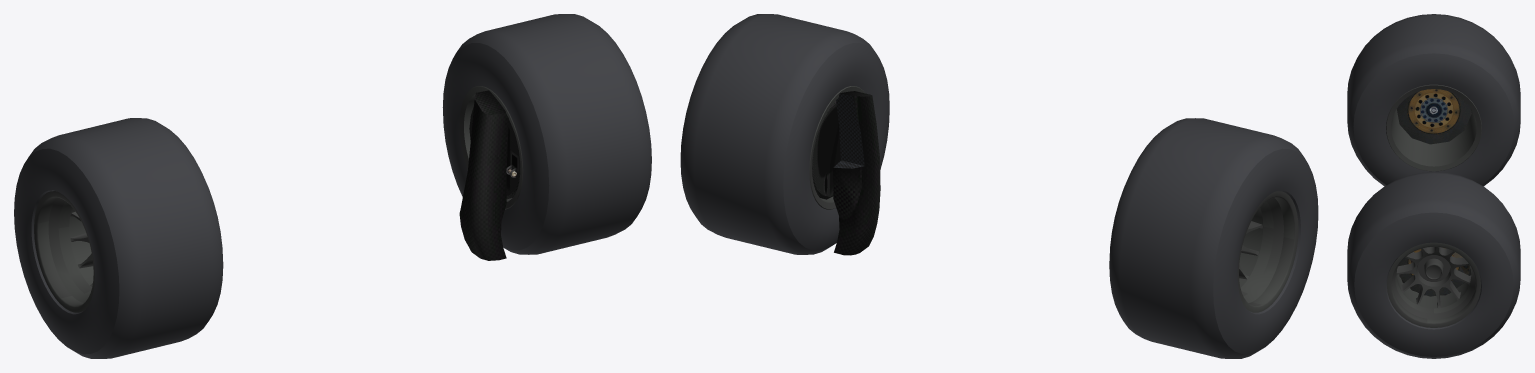
File: bwheel.obj
3 views of the same model, side by side, from view 1: azimuth 30°, elevation 25°; view 2: azimuth 150°, elevation 25°; view 3: azimuth 270°, elevation 25° (orthographic). The views are drawn at different scales.
Parts seen in each view (by area): view 1: object__50.002, object__52.002, object__49.002, object__51.002, object__29.002, object__20.002, object__21.002; view 2: object__50.002, object__52.002, object__49.002, object__51.002, object__29.002, object__20.002, object__21.002; view 3: object__51.002, object__49.002, object__52.002, object__50.002, object__21.002, object__20.002, object__38.002, object__39.002.
Part boxes in pixels (box(x1,y1,x2,y2)): object__50.002: box(26, 118, 223, 358); object__52.002: box(454, 14, 651, 254); object__49.002: box(14, 148, 222, 354); object__51.002: box(442, 43, 549, 250); object__29.002: box(459, 90, 520, 260); object__20.002: box(34, 191, 94, 312); object__21.002: box(459, 86, 523, 209); object__50.002: box(1109, 118, 1307, 358); object__52.002: box(680, 14, 877, 254); object__49.002: box(1110, 148, 1318, 354); object__51.002: box(783, 43, 889, 250); object__29.002: box(812, 91, 880, 255); object__20.002: box(1237, 191, 1298, 312); object__21.002: box(809, 86, 864, 209); object__51.002: box(1354, 212, 1513, 356); object__49.002: box(1353, 53, 1514, 185); object__52.002: box(1347, 172, 1520, 358); object__50.002: box(1347, 14, 1520, 186); object__21.002: box(1387, 242, 1480, 327); object__20.002: box(1386, 84, 1481, 171); object__38.002: box(1397, 89, 1471, 144); object__39.002: box(1398, 248, 1470, 296).
Size of the model in its own units: 1.76 by 0.6438 by 0.6438.
